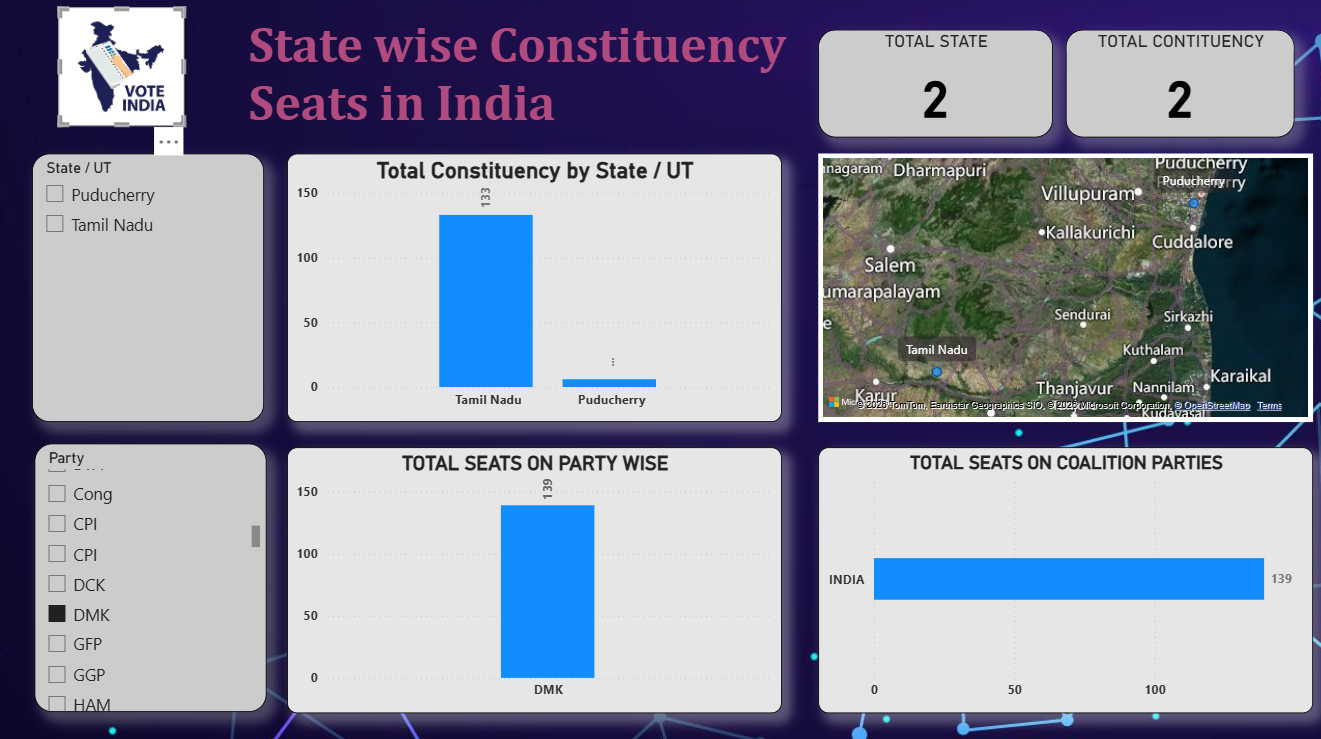

What the dashboard file says about the page in this screenshot:
{"tool":"powerbi","page":{"name":"Page 1","canvas":[1280,720],"ordinal":0},"visuals":[{"type":"card","title":"TOTAL STATE","fields":{"Values":["Count(Data.State / UT)"]},"box":[792.6,32.6,226.8,105],"z":0},{"type":"card","title":"TOTAL CONTITUENCY","fields":{"Values":["Count(Data.Total Constituency)"]},"box":[1042.4,32.6,228,103.8],"z":1000},{"type":"columnChart","title":"Total Constituency by State / UT","fields":{"Category":["Data.State / UT"],"Y":["Sum(Data.Total Constituency)"]},"box":[279.9,152.3,477.5,259.3],"z":2000},{"type":"map","fields":{"Category":["Data.State / UT"]},"box":[793.1,152.3,477.5,259.3],"z":3000},{"type":"columnChart","title":"TOTAL SEATS ON PARTY WISE","fields":{"Y":["Sum(Data.Total Constituency)"],"Category":["Data.Party"]},"box":[279.9,435,477.5,256.6],"z":4000},{"type":"clusteredBarChart","title":"TOTAL SEATS ON COALITION PARTIES","fields":{"Category":["Data.NDA / INDI"],"Y":["Sum(Data.Total Constituency)"]},"box":[793.1,435,477.5,256.6],"z":5000},{"type":"slicer","fields":{"Values":["Data.State / UT"]},"box":[34.3,152.3,223.7,259.3],"z":6000},{"type":"slicer","fields":{"Values":["Data.Party"]},"box":[35.7,432.2,223.7,259.3],"z":7000},{"type":"textbox","box":[237.4,13.7,544.8,138.6],"z":8000},{"type":"image","box":[33.8,13.3,167.7,124.3],"z":8001}]}

Visuals, with their boxes in screenshot pixels (x1, y1, x2, y2), scaled from the page's 1280x720 canvas onto the 1321x739 screenshot:
"TOTAL STATE" card: [818,33,1052,141]
"TOTAL CONTITUENCY" card: [1076,33,1311,140]
"Total Constituency by State / UT" columnChart: [289,156,782,422]
map - Data.State / UT: [819,156,1311,422]
"TOTAL SEATS ON PARTY WISE" columnChart: [289,446,782,710]
"TOTAL SEATS ON COALITION PARTIES" clusteredBarChart: [819,446,1311,710]
slicer - Data.State / UT: [35,156,266,422]
slicer - Data.Party: [37,444,268,710]
textbox: [245,14,807,156]
image: [35,14,208,141]
